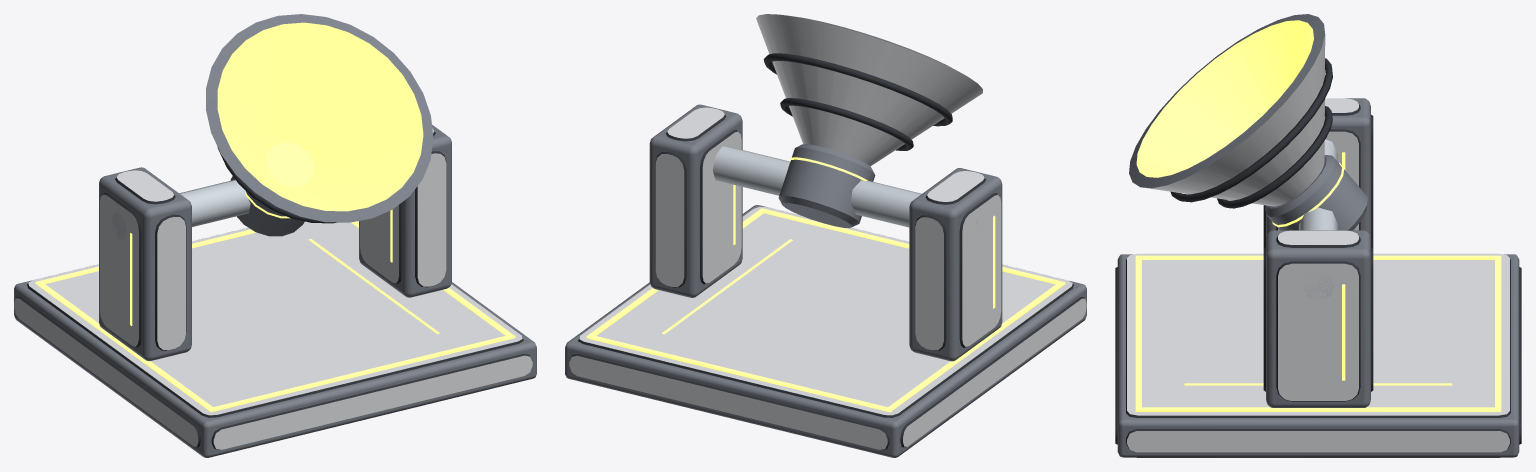
The model's file is R4X_DeployableAmplifier.fbx.
3 views of the same model, side by side, from view 1: azimuth 30°, elevation 25°; view 2: azimuth 150°, elevation 25°; view 3: azimuth 270°, elevation 25° (orthographic). The views are drawn at different scales.
Visible parts, largest first — view 1: R4X_DeployableAmplifier_Body, R4X_DeployableAmplifier_Horn; view 2: R4X_DeployableAmplifier_Body, R4X_DeployableAmplifier_Horn; view 3: R4X_DeployableAmplifier_Body, R4X_DeployableAmplifier_Horn.
Boxes of the visible parts, x1,y1,x2,y2 form: R4X_DeployableAmplifier_Body: [14, 125, 536, 457]; R4X_DeployableAmplifier_Horn: [206, 14, 433, 236]; R4X_DeployableAmplifier_Body: [565, 104, 1086, 457]; R4X_DeployableAmplifier_Horn: [756, 14, 982, 228]; R4X_DeployableAmplifier_Body: [1115, 98, 1521, 457]; R4X_DeployableAmplifier_Horn: [1129, 14, 1367, 230].
Bounding box in the file's own units: 0.52 × 0.4878 × 0.52.
